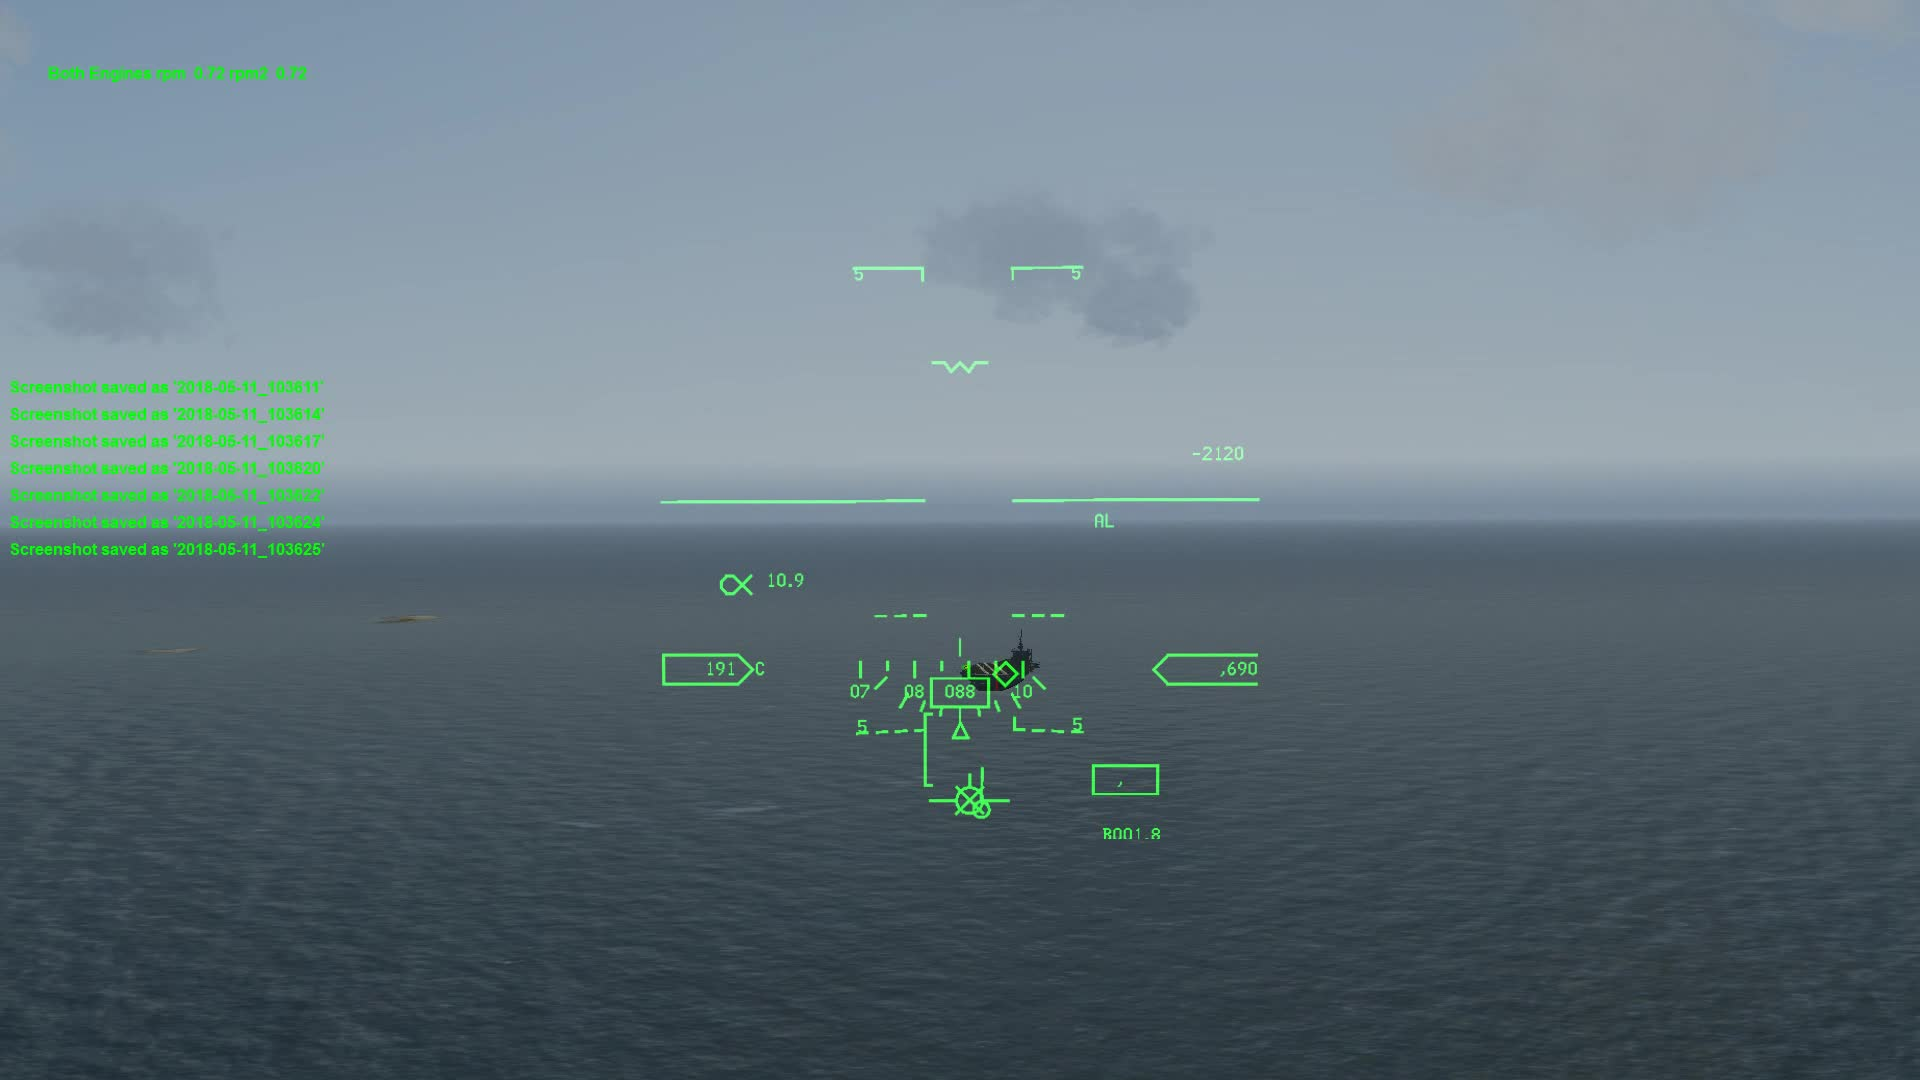speed vector: (923, 764, 1018, 825)
